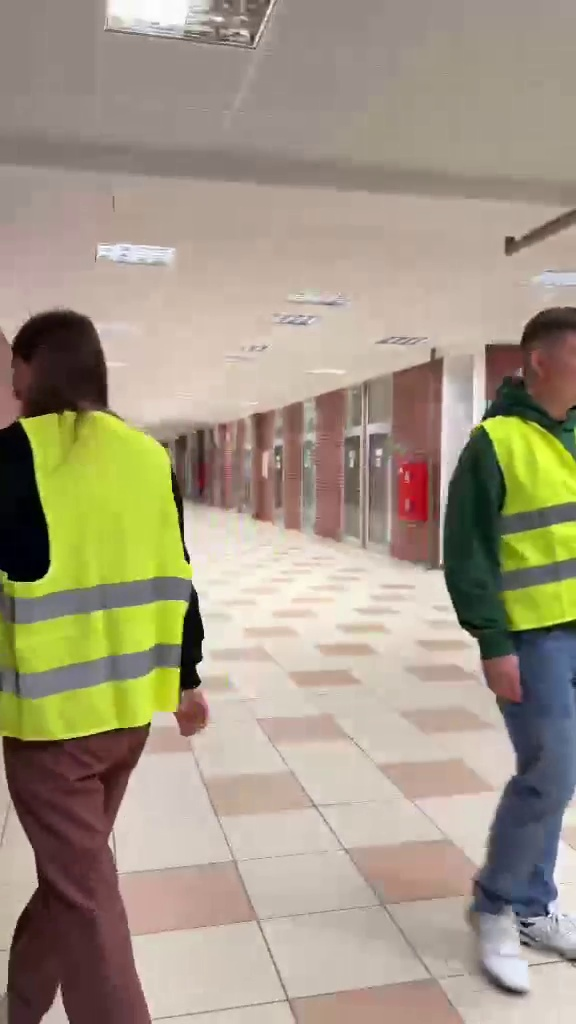vest: (0, 308, 202, 989), (442, 297, 576, 982)
